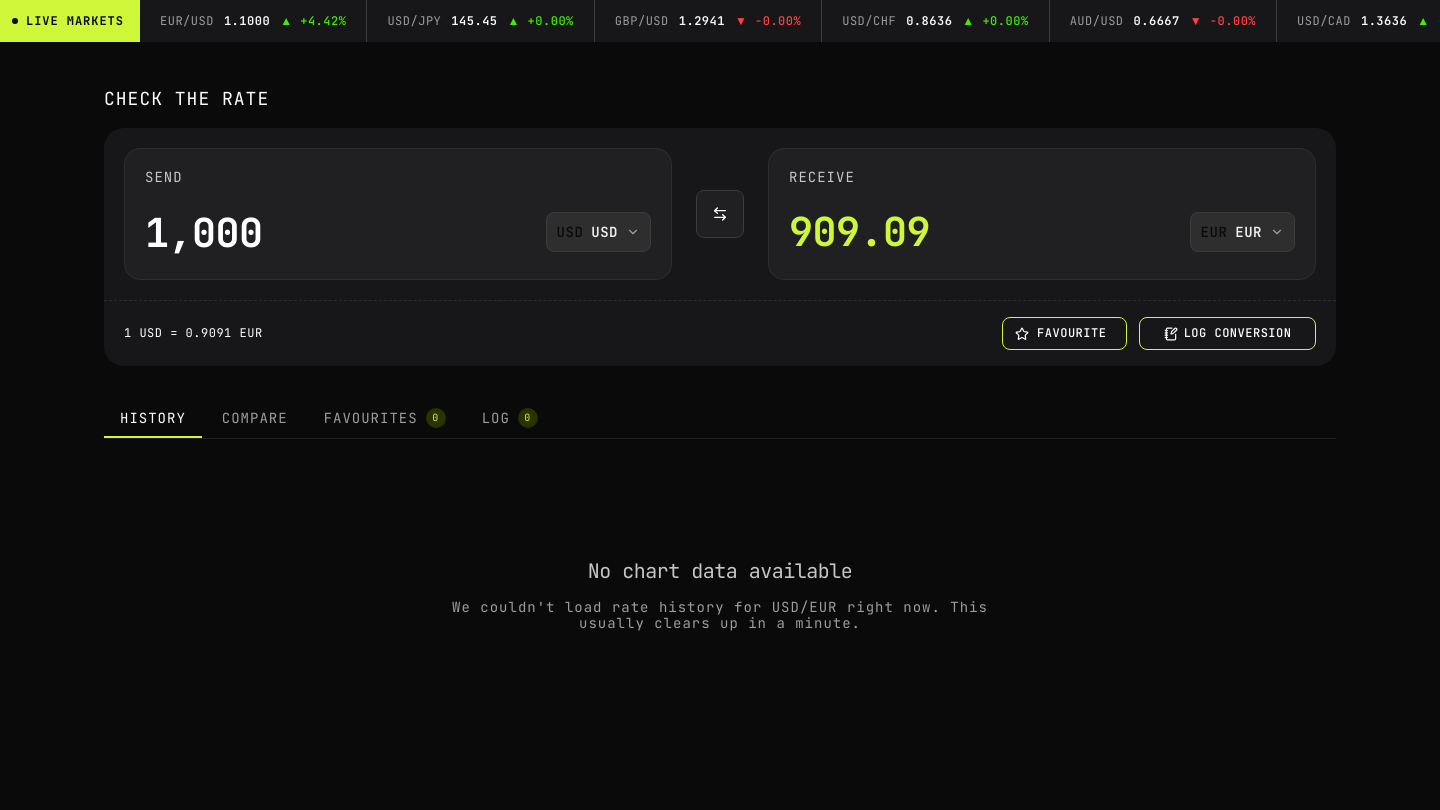
Test: Dashboard › propagates currency changes from rate checker into compare tab
The width and height of the screenshot is (1440, 810).
Check: the text "909.09" is shown, box [789,205,930,258]
Click the tab "Compare": (255, 418) [206,398,304,438]
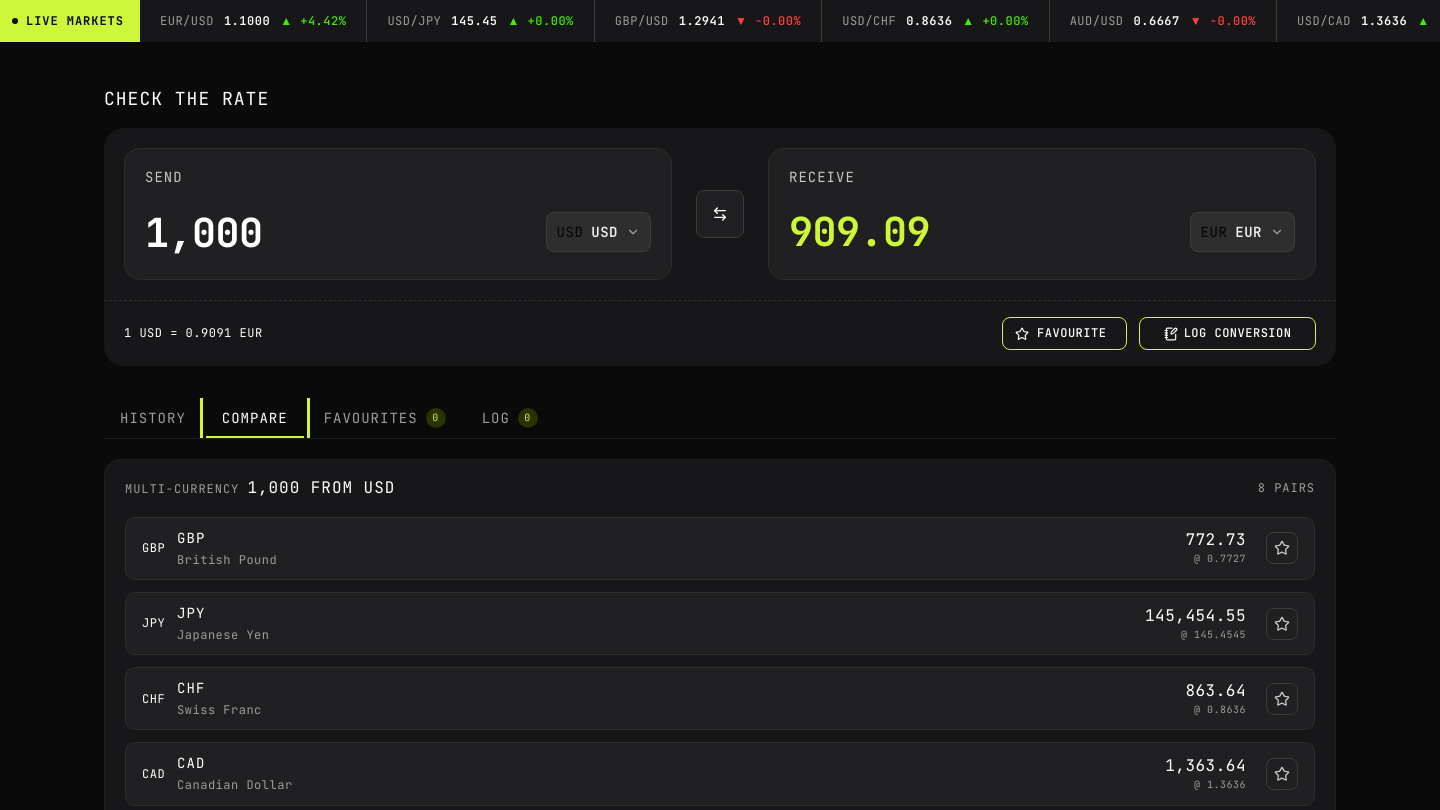
Check: the text "1,000 from USD" is shown, box [247,477,395,498]
Click the button "USD USD": (598, 232) [546,212,651,252]
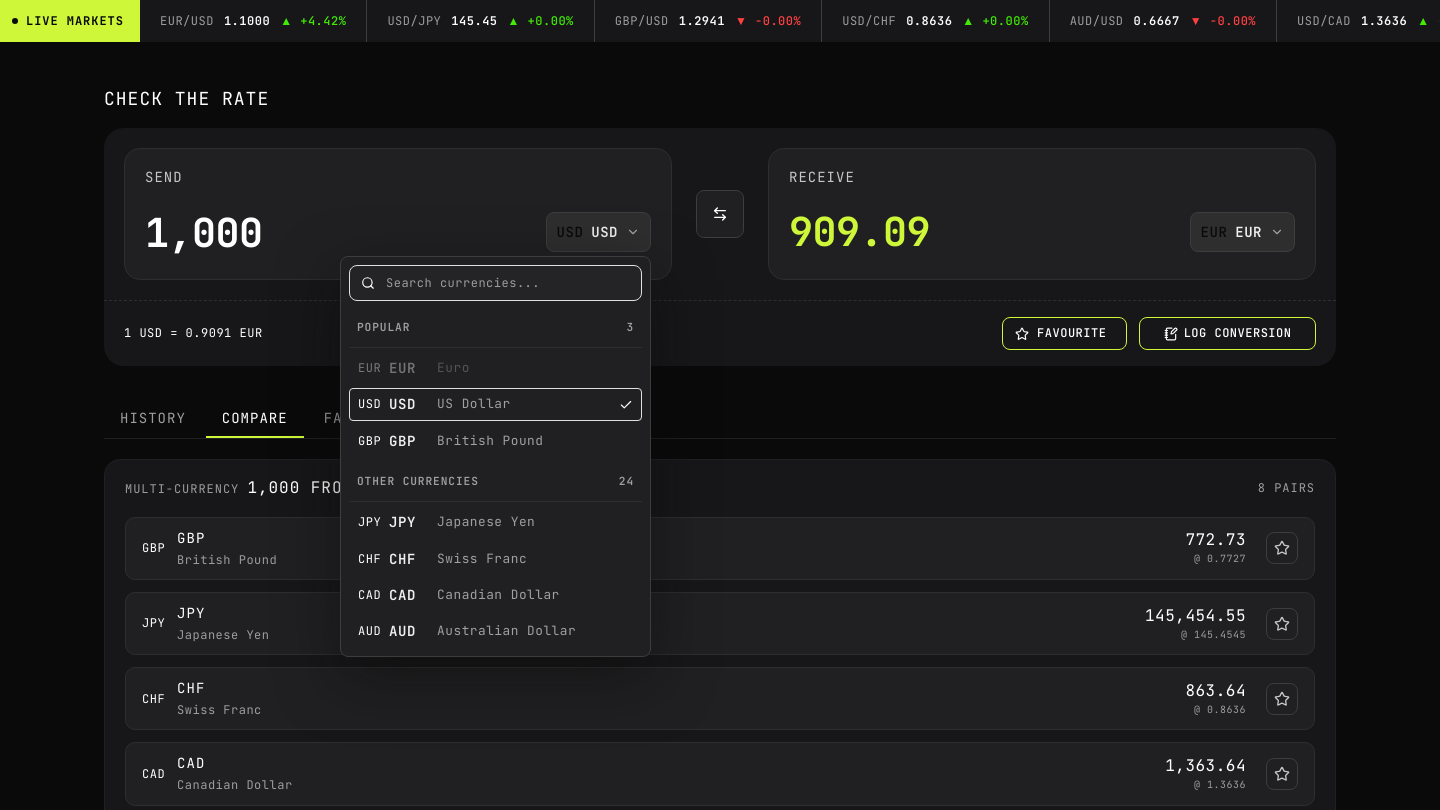
Click the button "GBP GBP British Pound": (496, 441) [349,425,642,457]
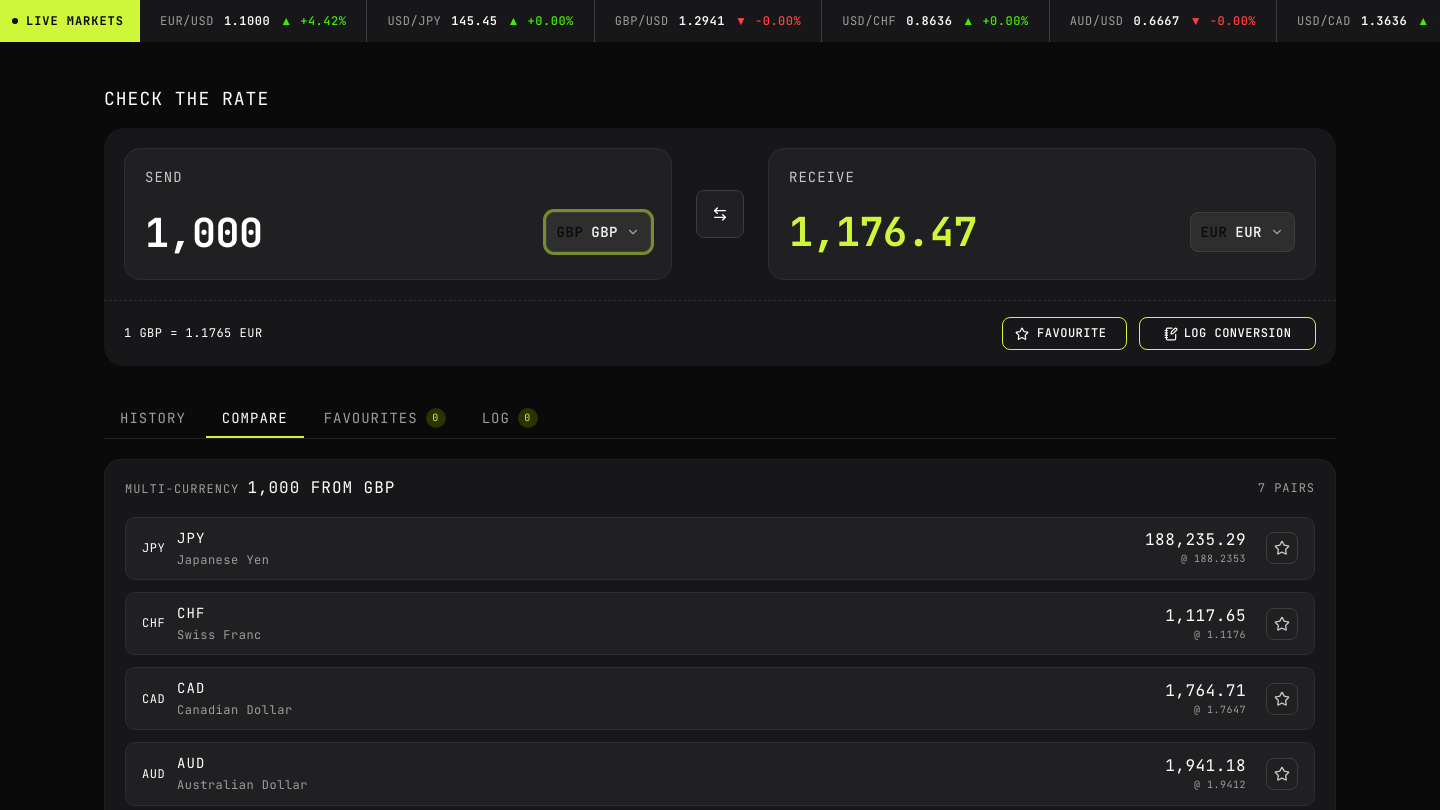
Check: the text "1,000 from GBP" is shown, box [247,477,395,498]
